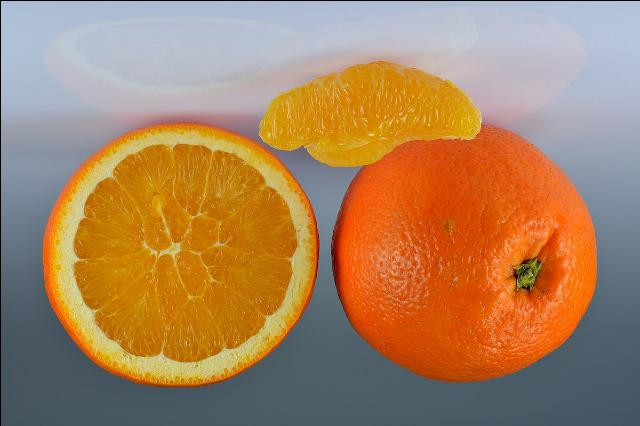Oranges: (39, 120, 319, 388), (330, 124, 598, 384)
